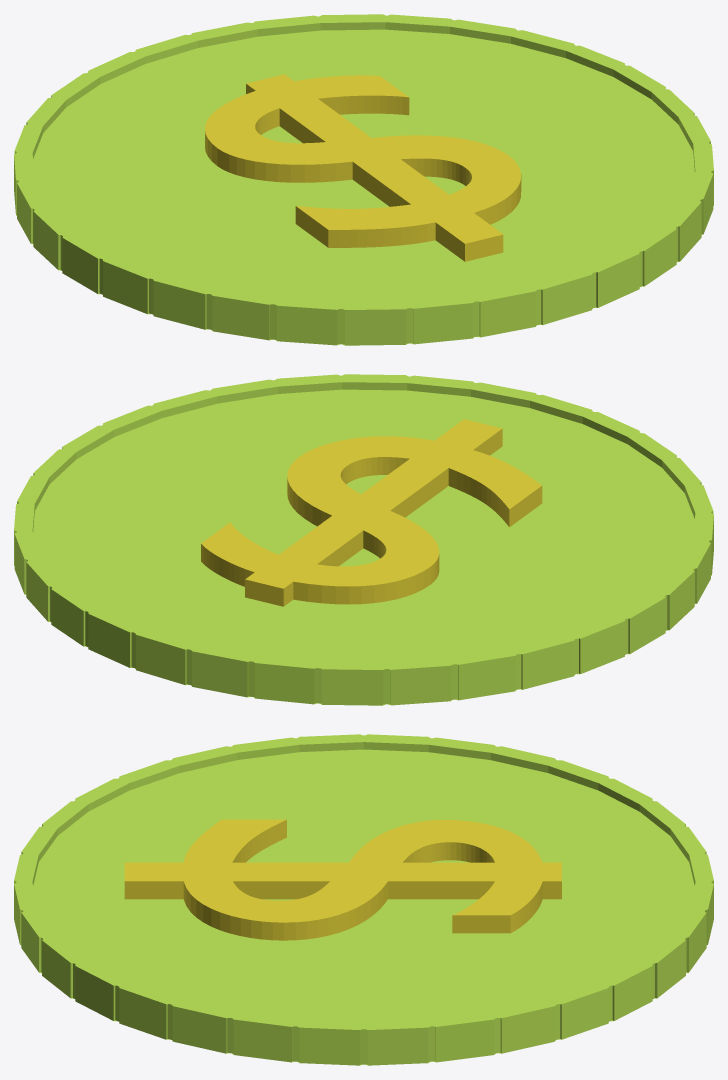
The model's file is coin.fbx.
3 views of the same model, one above another, from view 1: azimuth 30°, elevation 25°; view 2: azimuth 150°, elevation 25°; view 3: azimuth 270°, elevation 25° (orthographic).
Visible parts, largest first — view 1: Text; view 2: Text; view 3: Text.
Boxes of the visible parts, x1,y1,x2,y2 form: Text: (14, 14, 713, 345); Text: (14, 374, 713, 705); Text: (14, 734, 713, 1065).
Bounding box in the file's own units: 200 × 14.51 × 200.
